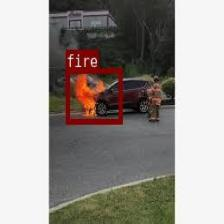fire: (66, 68, 122, 124)
